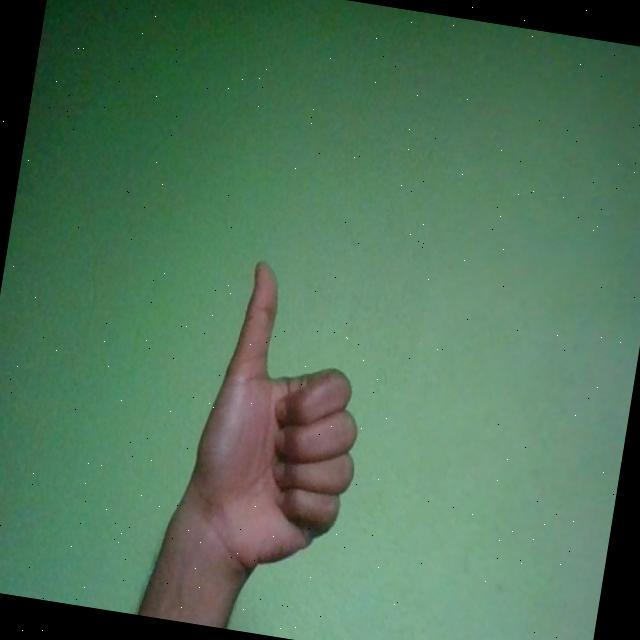Good Job: (178, 256, 386, 590)
